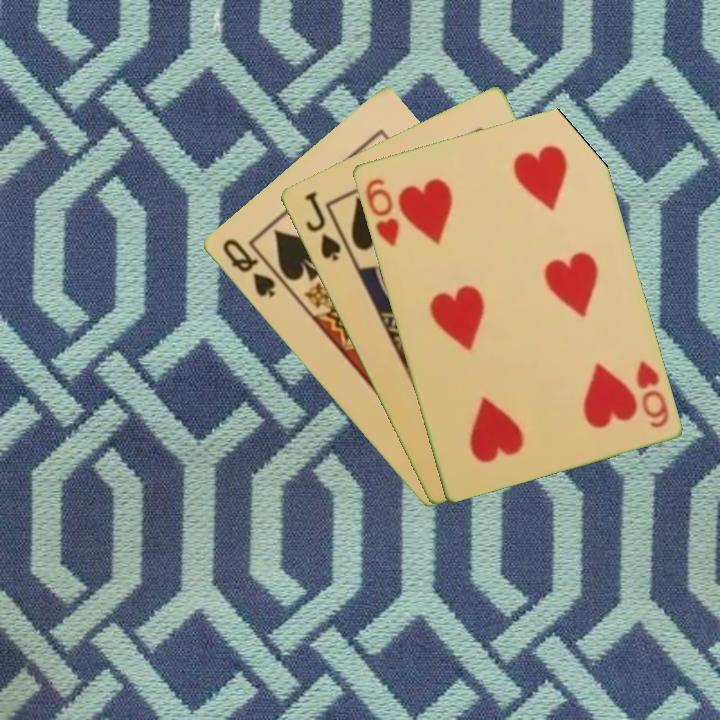6h: (361, 174, 402, 249), (632, 356, 672, 431)
Js: (300, 187, 344, 264)
Qs: (218, 235, 278, 301)
